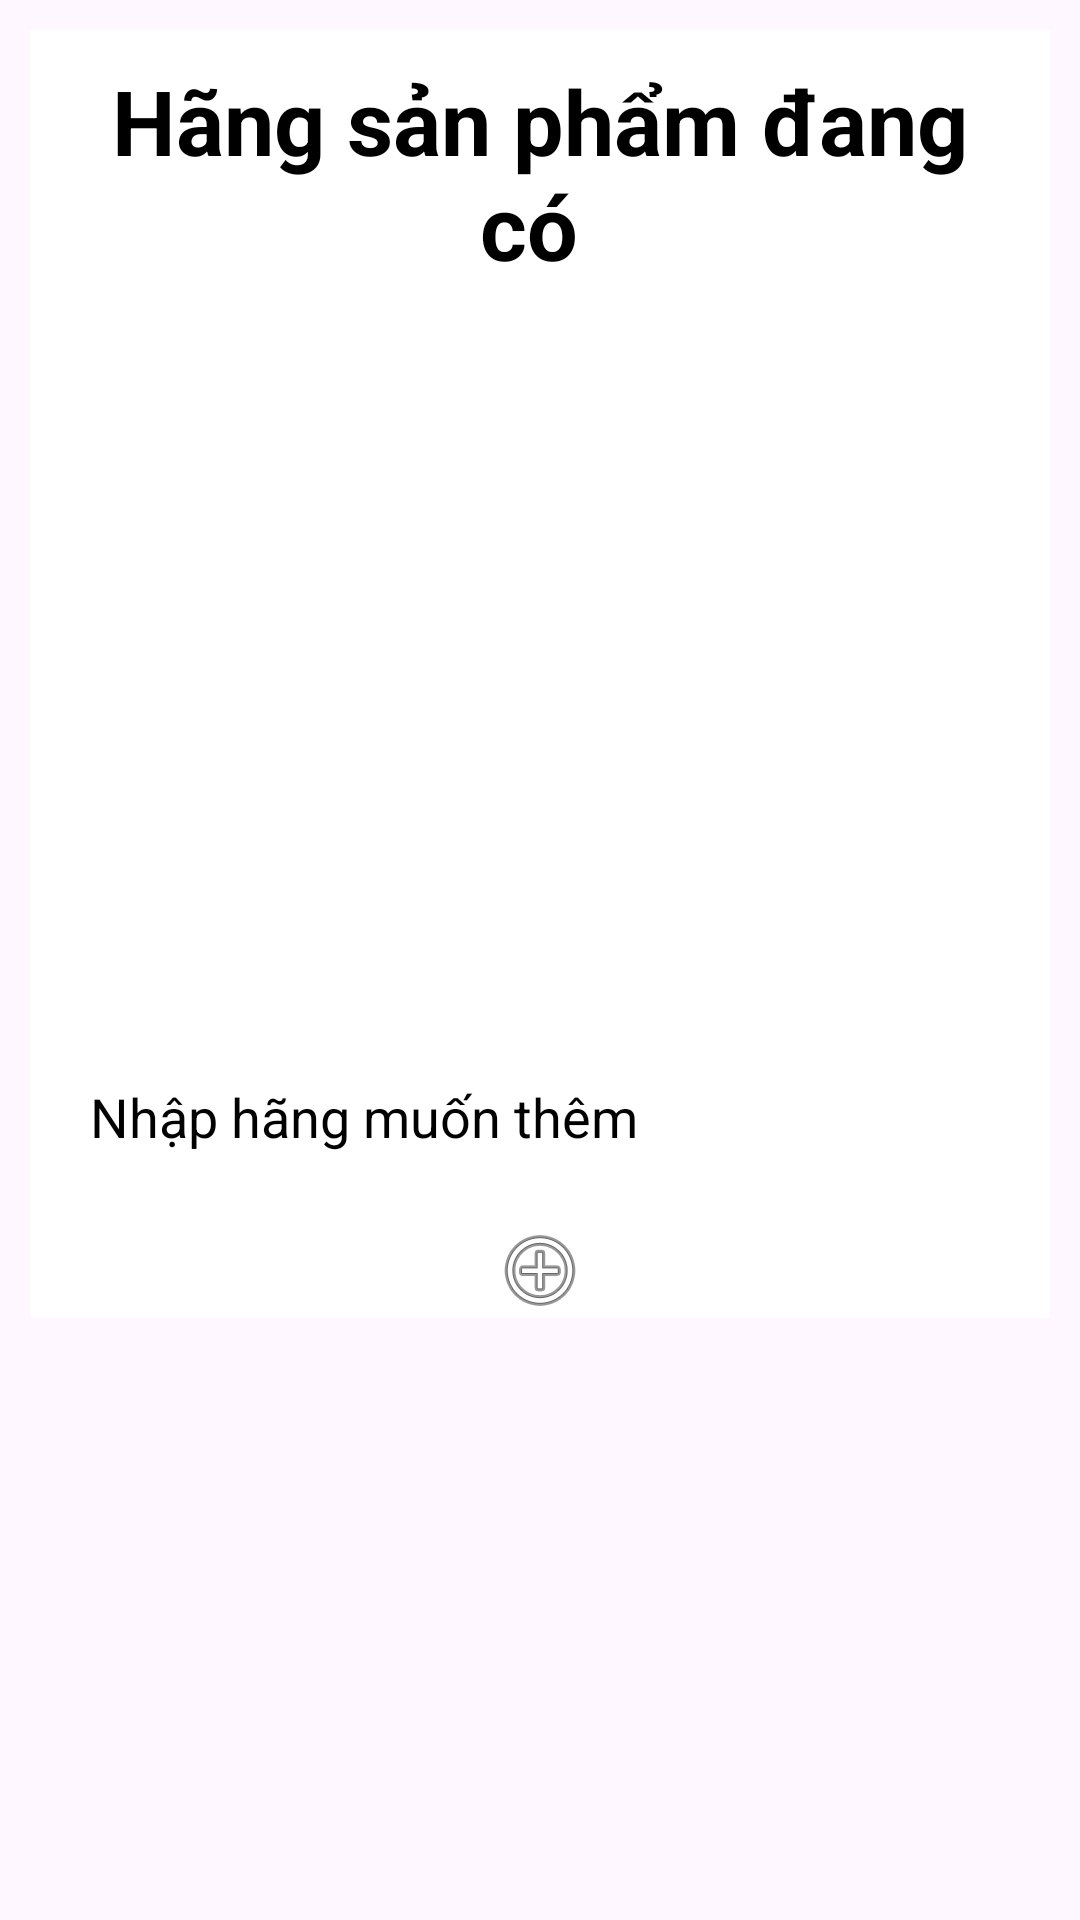

Icon bounding boxes for this 1080x1920 phone screenshot, format box(x1, y1, x2, y2):
add: box(504, 1235, 576, 1306)
